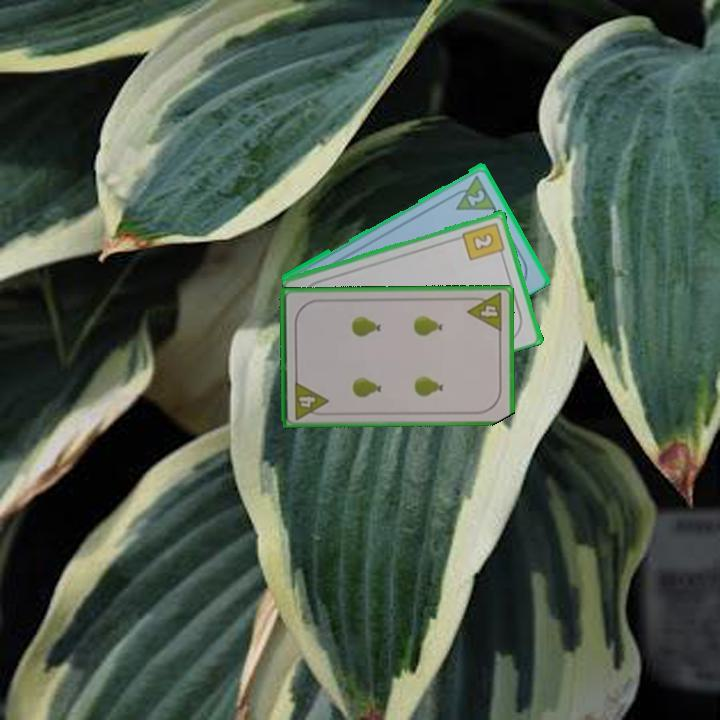2b: (459, 219, 508, 263)
2p: (464, 186, 488, 208)
4p: (464, 290, 506, 334), (291, 378, 330, 422)
